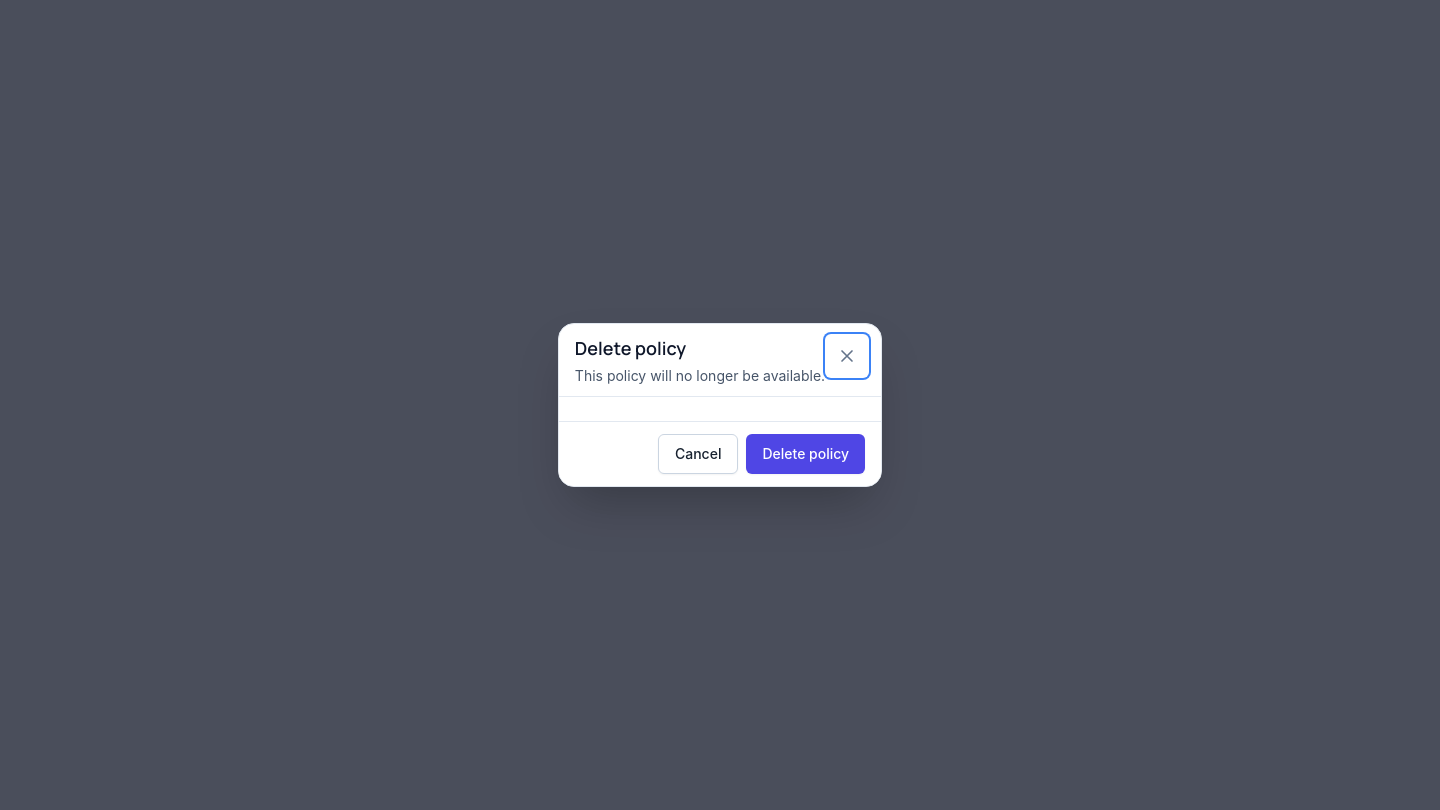
Scenario: ConfirmDialog › keeps the dialog open and presents friendly recovery after rejection
The image size is (1440, 810).
Click the button "Delete policy". click: (806, 454)
box: [746,434,865,474]
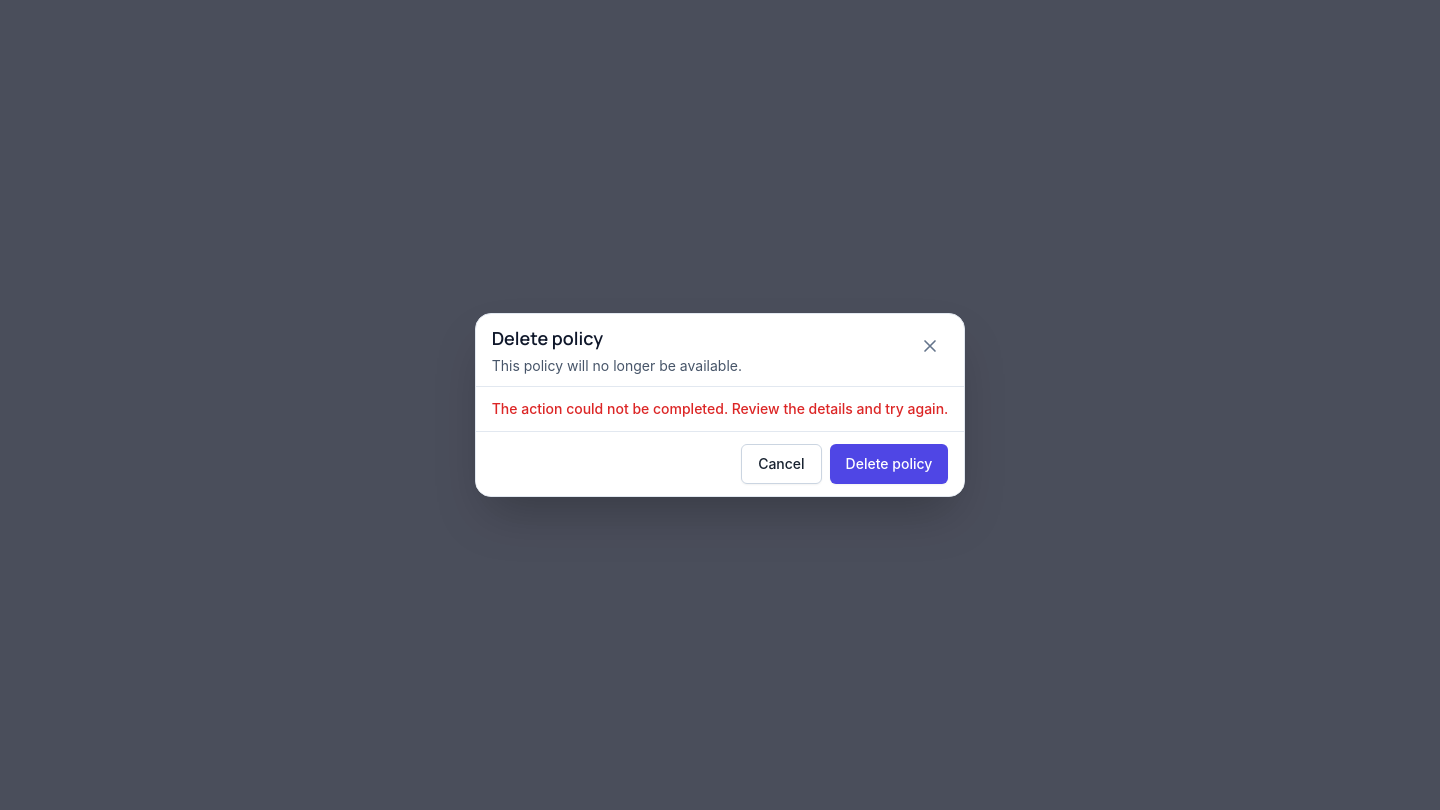
Expected: the dialog "Delete policy" is shown, [475,313,965,497]
Now the message "The action could not be completed. Review the details and try again." is shown, box [492,399,948,419]
Now the message shows "could not be completed", box [492,400,948,417]
